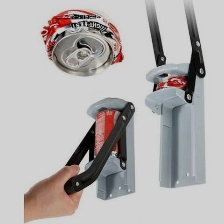can: (37, 8, 127, 79), (91, 107, 122, 161), (151, 73, 189, 92)
